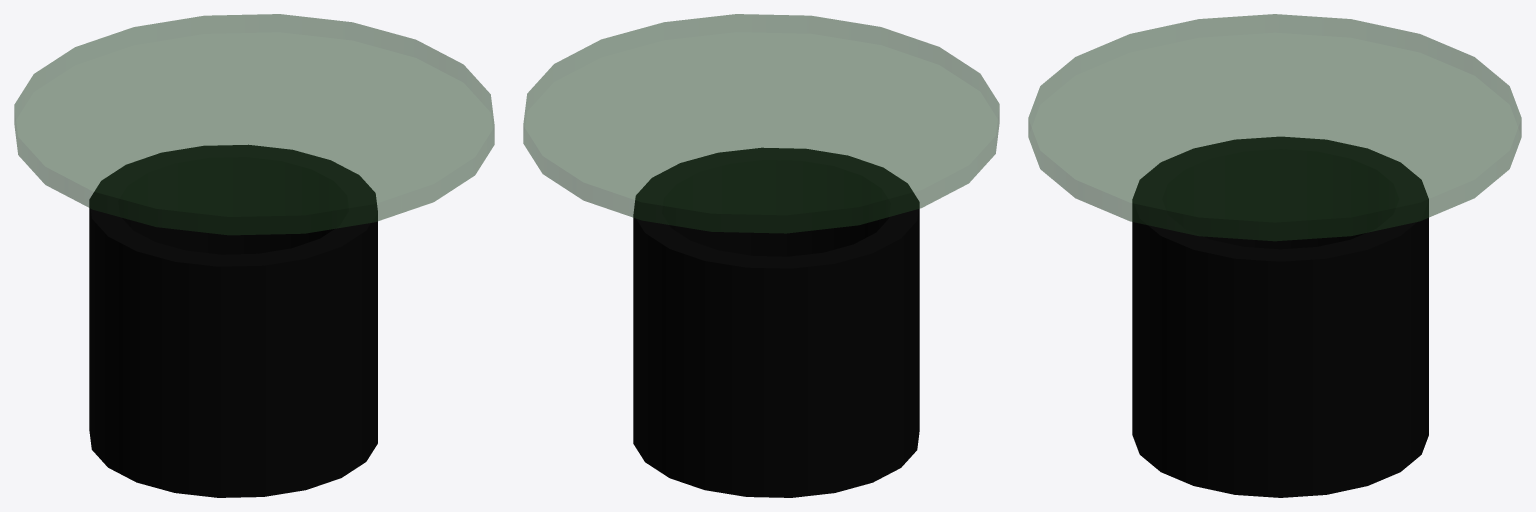
File: Table18.fbx
3 views of the same model, side by side, from view 1: azimuth 30°, elevation 25°; view 2: azimuth 150°, elevation 25°; view 3: azimuth 270°, elevation 25° (orthographic). The views are drawn at different scales.
Visible parts, largest first — view 1: pPipe1, pCylinder1; view 2: pPipe1, pCylinder1; view 3: pPipe1, pCylinder1.
Part boxes in pixels (left/top/right/bottom): pPipe1: left=89, top=144, right=377, bottom=497; pCylinder1: left=14, top=14, right=494, bottom=235; pPipe1: left=633, top=147, right=919, bottom=497; pCylinder1: left=523, top=14, right=999, bottom=233; pPipe1: left=1132, top=136, right=1428, bottom=497; pCylinder1: left=1028, top=14, right=1521, bottom=241.
Size of the model in its own units: 1.77 by 1.29 by 1.77.
